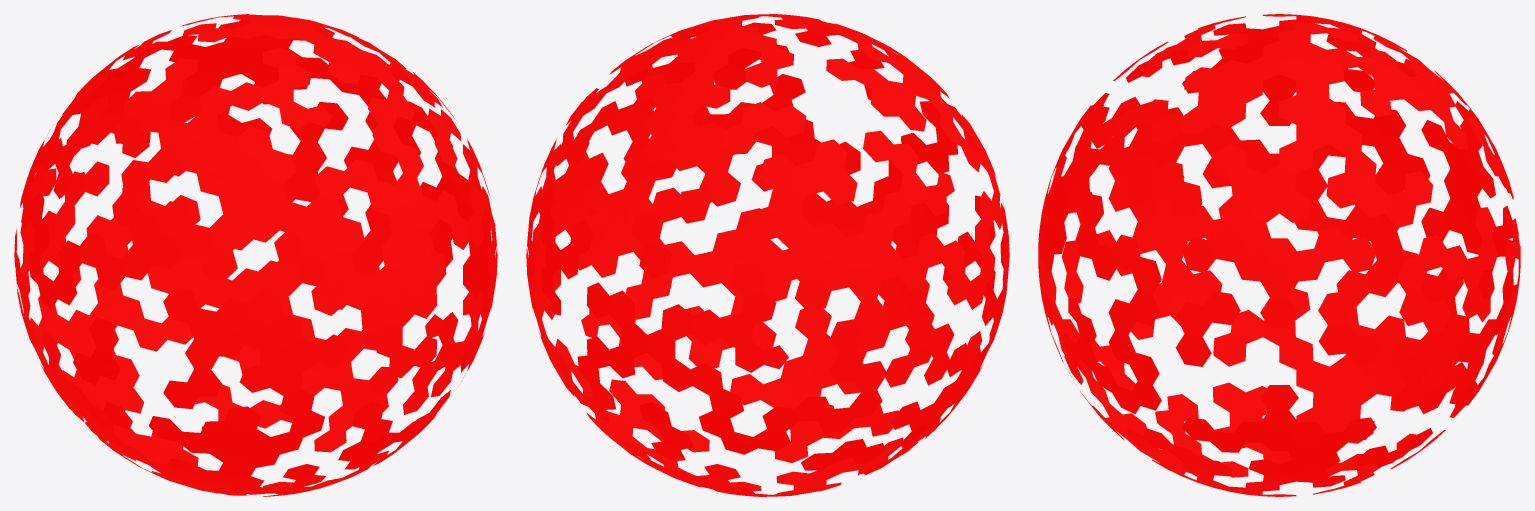
The model's file is TryGolfBall.glb.
The picture shows the model from 3 angles, left to right: view 1: azimuth 30°, elevation 25°; view 2: azimuth 150°, elevation 25°; view 3: azimuth 270°, elevation 25°; orthographic projection.
Size of the model in its own units: 2 by 2 by 2.
